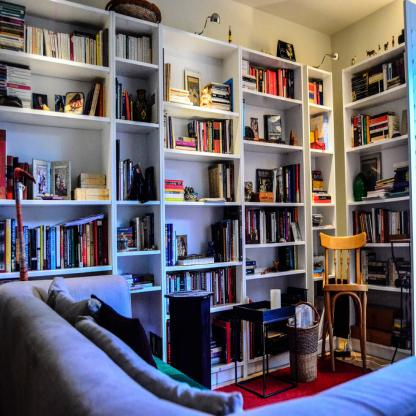book: (0, 0, 109, 69), (0, 212, 108, 270), (166, 318, 245, 364), (164, 273, 235, 315), (240, 56, 296, 100), (352, 60, 404, 103), (351, 108, 402, 150), (245, 165, 303, 201), (245, 206, 300, 243), (117, 137, 148, 200), (353, 206, 410, 239), (210, 207, 244, 262), (362, 159, 409, 198), (0, 59, 34, 112), (185, 118, 232, 154), (115, 213, 156, 252), (115, 32, 154, 63), (74, 172, 112, 200), (208, 161, 234, 200), (114, 77, 136, 119), (311, 171, 333, 206), (387, 258, 411, 290), (117, 274, 159, 292), (184, 68, 205, 104), (204, 82, 228, 110), (163, 49, 175, 104), (83, 83, 100, 117), (263, 114, 285, 140), (366, 262, 390, 285), (166, 222, 178, 267), (313, 308, 329, 339), (164, 111, 177, 148), (308, 78, 324, 107), (168, 88, 193, 106), (241, 134, 285, 144), (245, 319, 255, 363), (278, 248, 300, 268), (175, 134, 196, 152), (166, 180, 183, 201), (178, 256, 214, 265), (366, 251, 378, 278), (292, 221, 304, 244), (95, 83, 103, 115), (244, 254, 256, 275), (307, 127, 317, 152), (102, 83, 108, 119), (360, 249, 366, 282), (312, 212, 322, 230), (177, 253, 202, 260), (197, 196, 224, 202), (243, 98, 247, 138), (252, 268, 273, 275), (314, 267, 326, 279)
